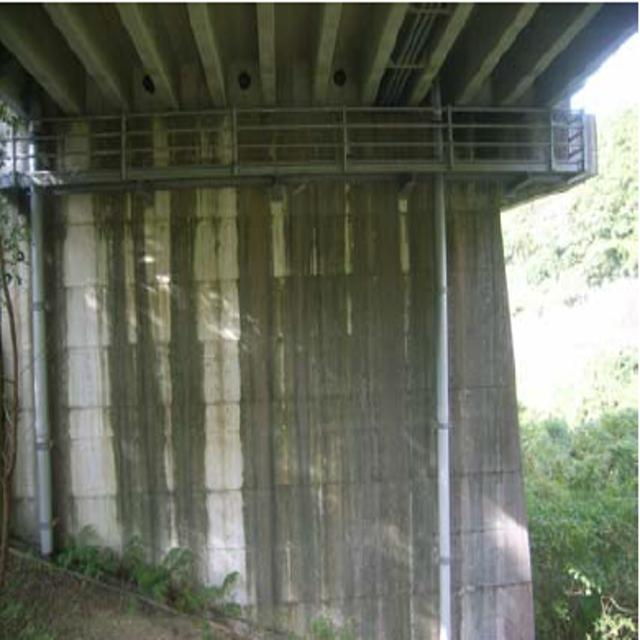leakage: (113, 189, 531, 630)
